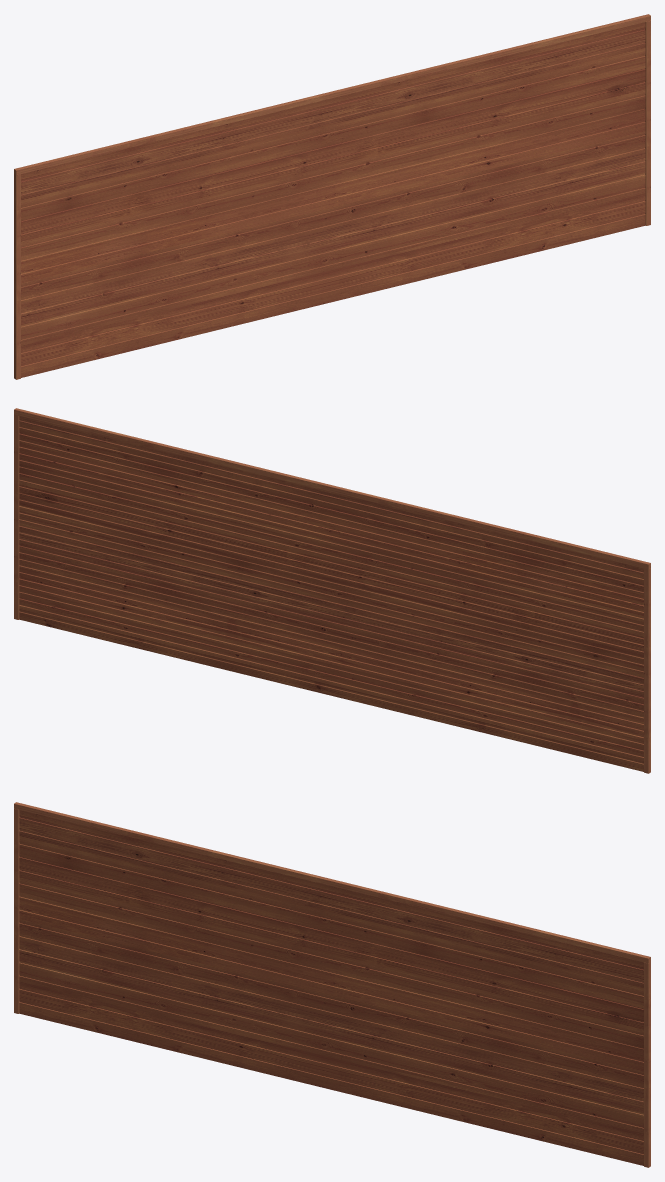
File: 25ftx7.875ft.obj
3 views of the same model, one above another, from view 1: azimuth 30°, elevation 25°; view 2: azimuth 150°, elevation 25°; view 3: azimuth 330°, elevation 25° (orthographic).
Visible parts, largest first — view 1: wall_planks, trim_top, trim_left, trim_right; view 2: wall_planks, trim_top, trim_left, trim_right; view 3: wall_planks, trim_top, trim_right, trim_left.
Boxes of the visible parts, x1,y1,x2,y2 form: wall_planks: (21,22,645,377); trim_top: (14,14,650,175); trim_left: (14,174,20,379); trim_right: (645,20,650,225); wall_planks: (19,416,643,771); trim_top: (14,408,650,569); trim_left: (644,568,650,773); trim_right: (14,414,19,619); wall_planks: (19,810,643,1165); trim_top: (14,802,650,963); trim_right: (644,962,650,1167); trim_left: (14,808,19,1013).
Size of the model in its own units: 300 by 94.5 by 1.82.
